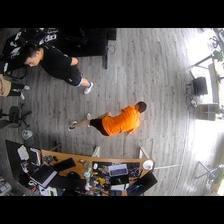fall: (66, 101, 148, 136)
normal: (19, 42, 94, 94)
